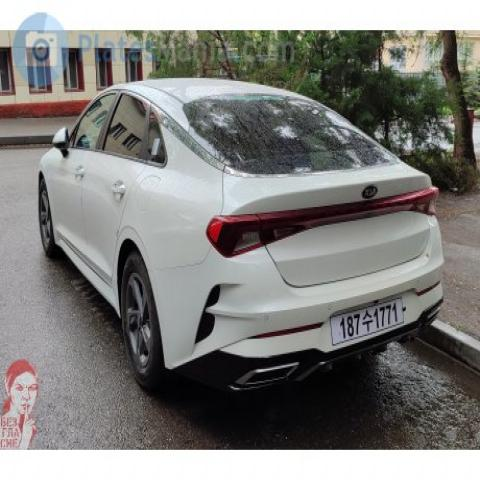LP: (327, 290, 406, 351)
